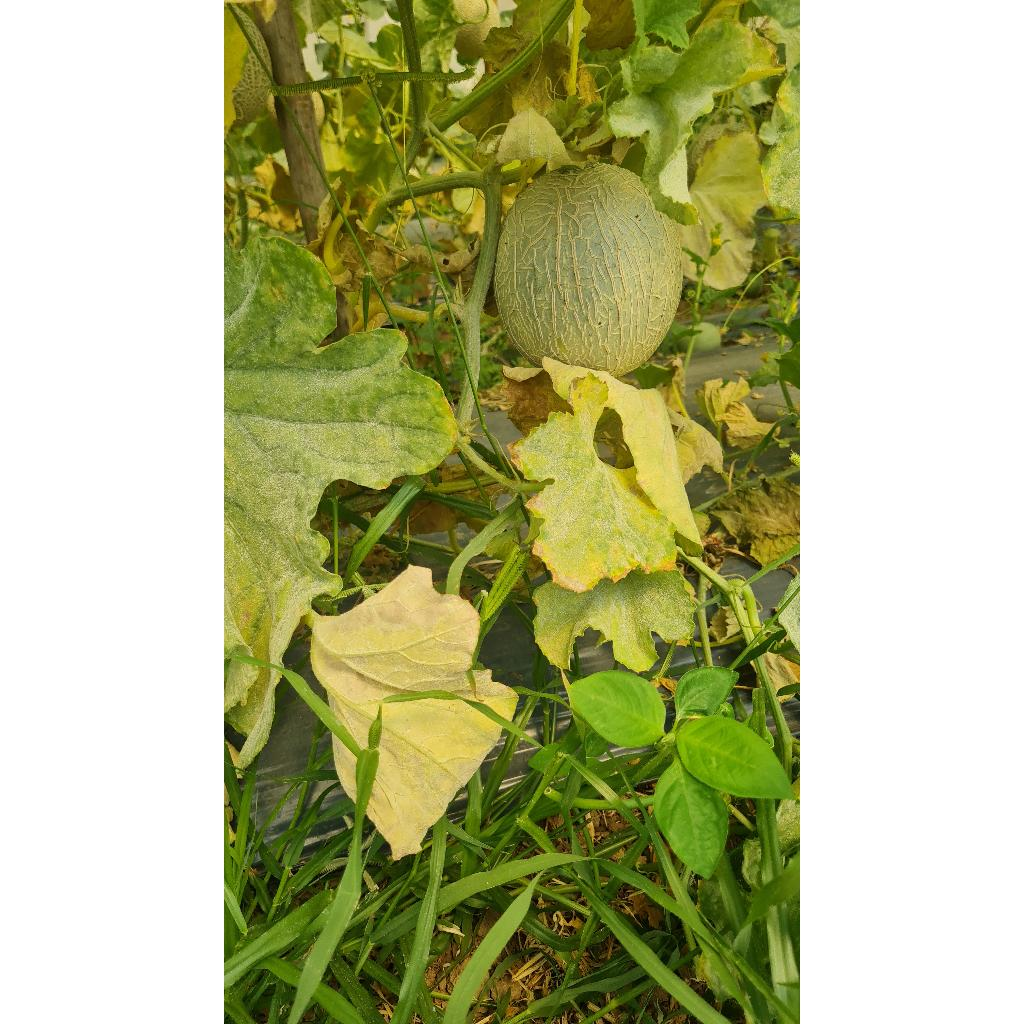melon: (494, 162, 682, 376)
